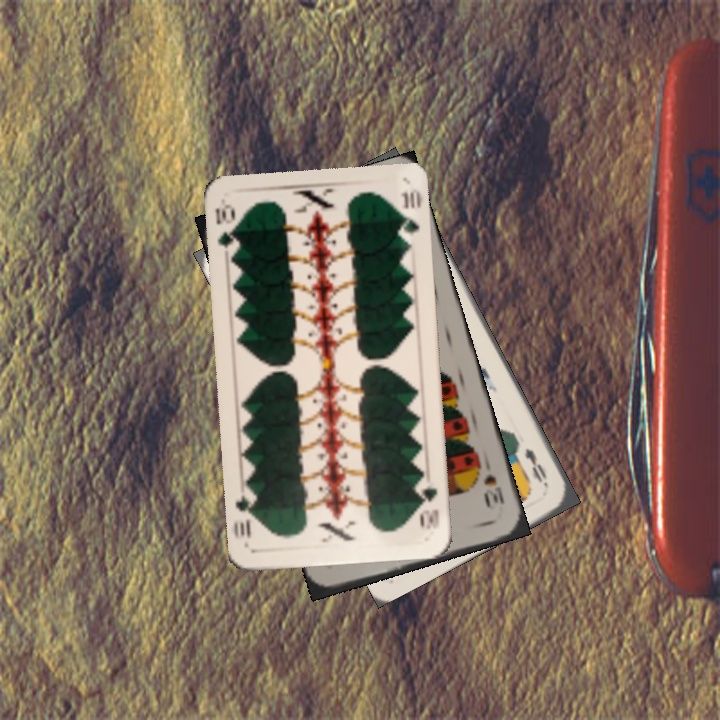EO: (520, 444, 551, 491)
G10: (211, 200, 239, 258), (415, 481, 442, 532)
S10: (480, 458, 507, 509)
